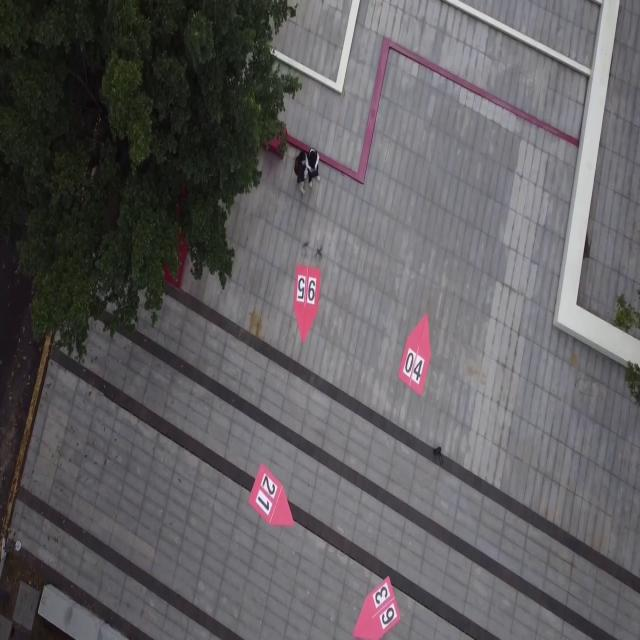-sign-: (352, 574, 402, 639), (248, 463, 295, 530), (397, 311, 431, 397), (292, 263, 320, 344)
